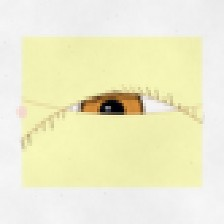pinguecula_lesion: (164, 102, 208, 137)
